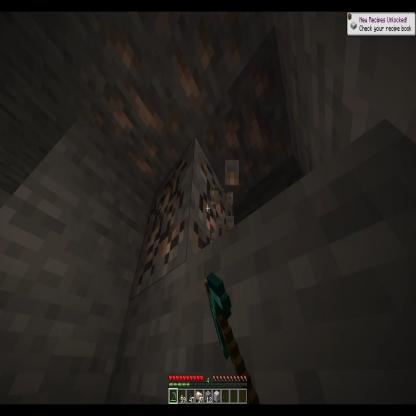iron ore: (118, 4, 266, 140), (93, 26, 190, 194), (205, 28, 295, 202), (139, 139, 234, 273)
